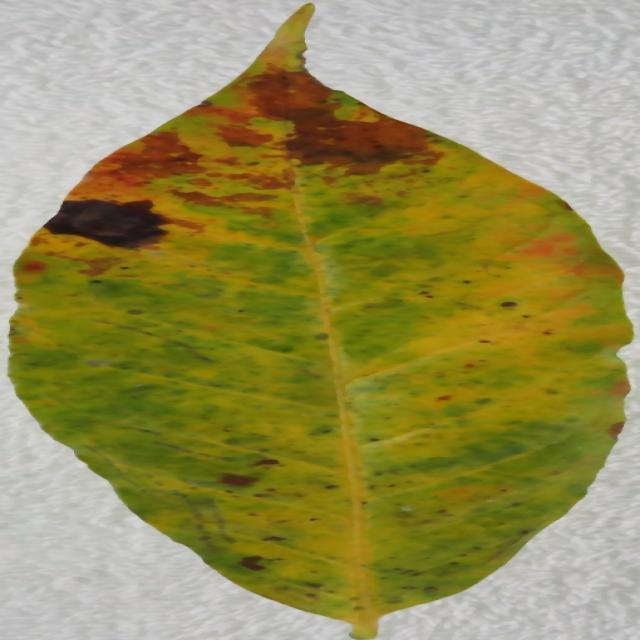DeficienciaNutricional-Fosforo: (11, 6, 631, 639)
